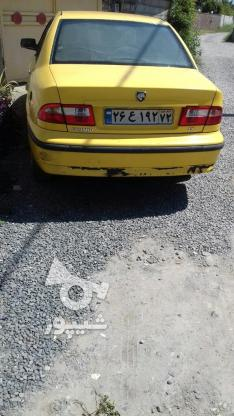car: (105, 106, 173, 123)
